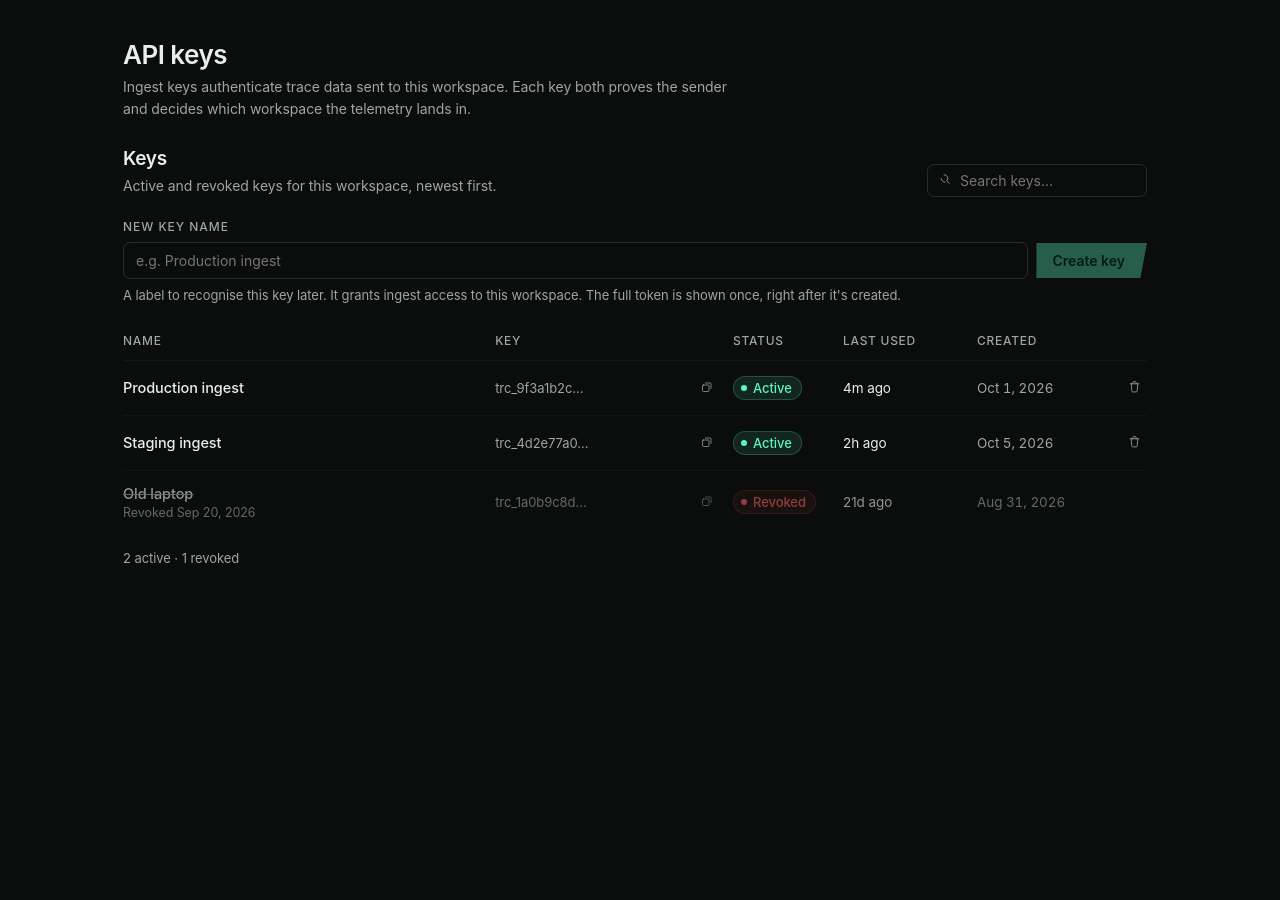
Test: live API keys page › renders an interactive demo without touching the backend
Expected: the text "Production ingest" is shown, [123,380,244,396]
Expected: the text "Staging ingest" is shown, [123,434,222,452]
Type "Local test" into the field with placeholder "e.g. Production ingest" at (576, 260), box [123,242,1028,279]
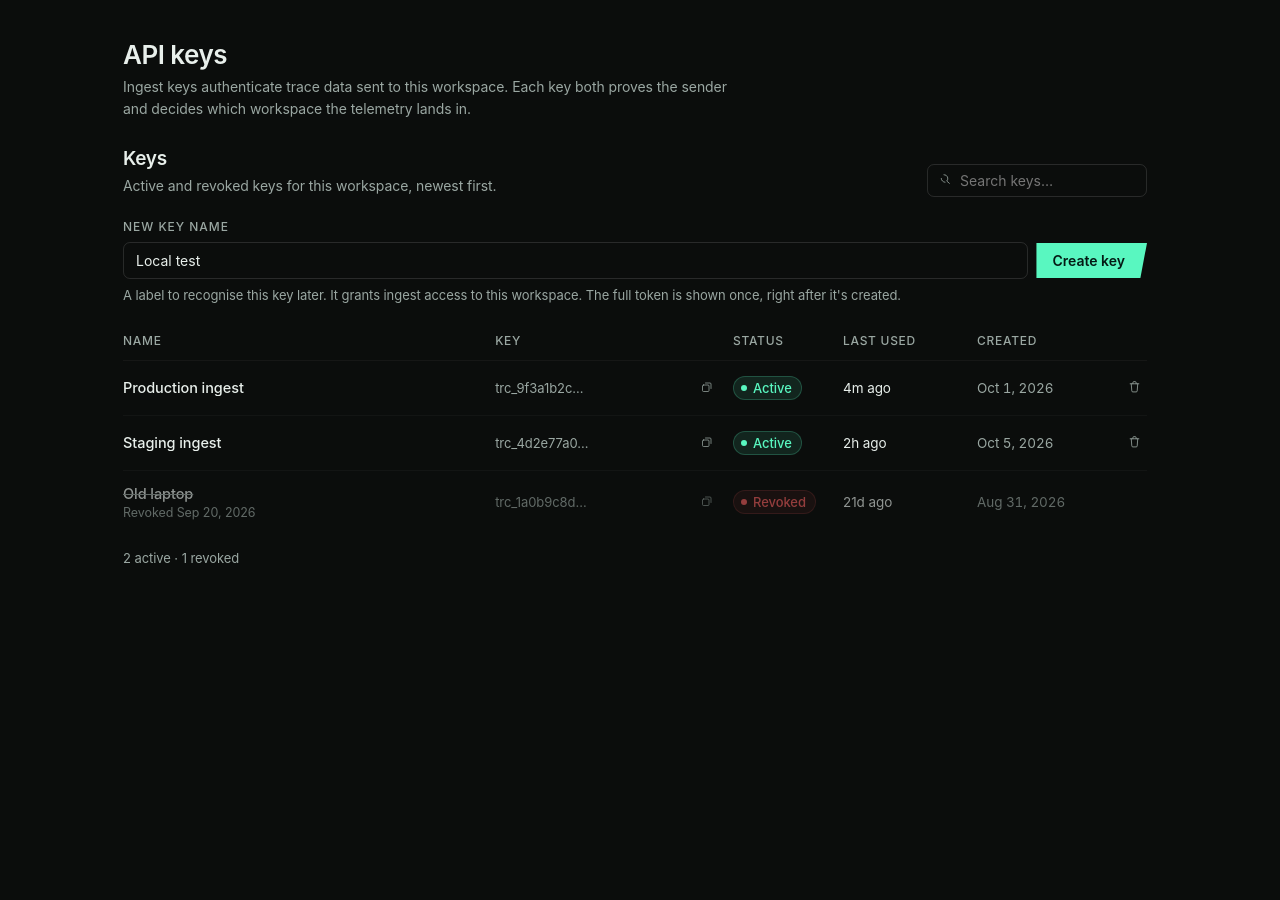
Click the button "Create key" at (1092, 260), box [1036,243,1147,278]
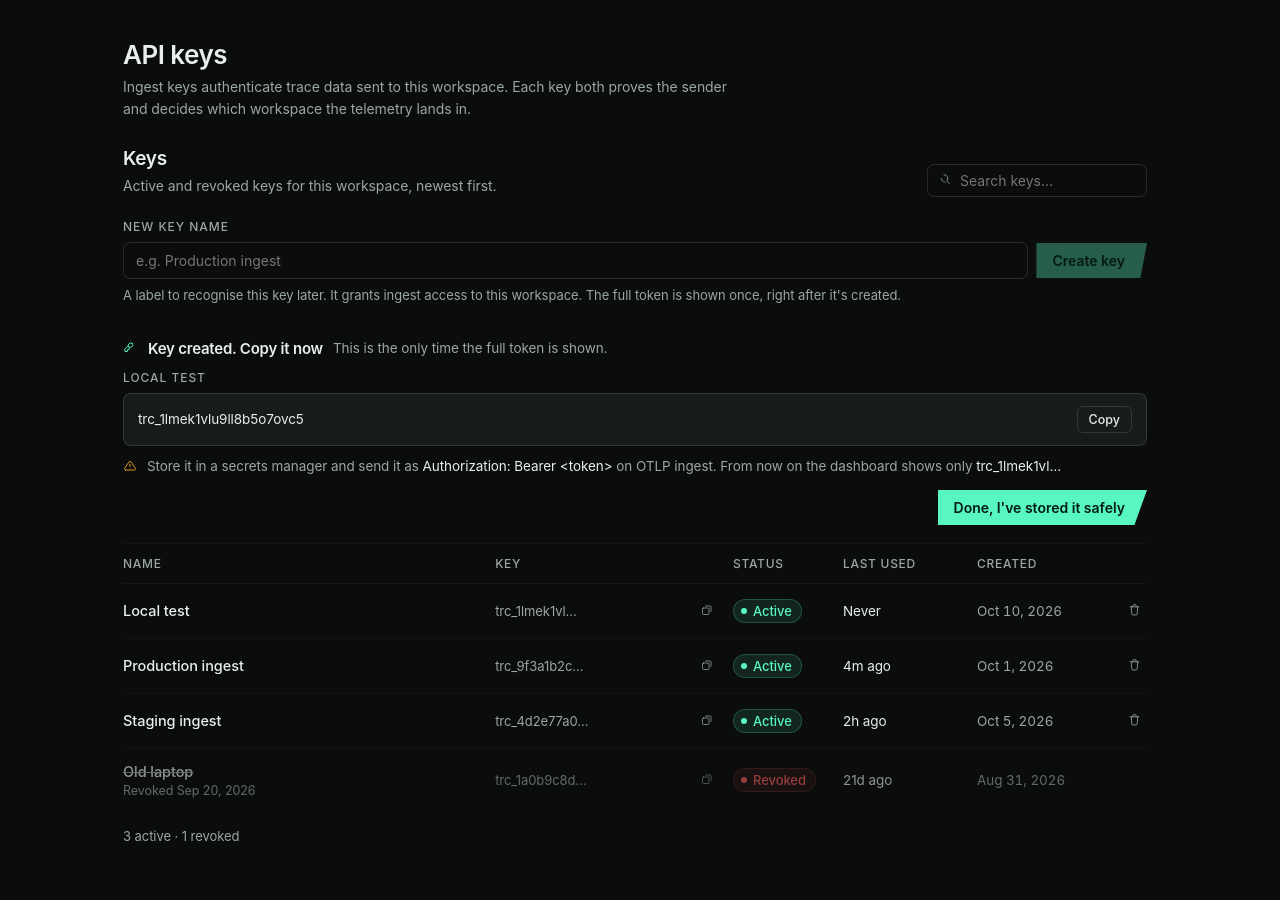
Expected: the text "Key created. Copy it now" is shown, [148,339,323,358]
